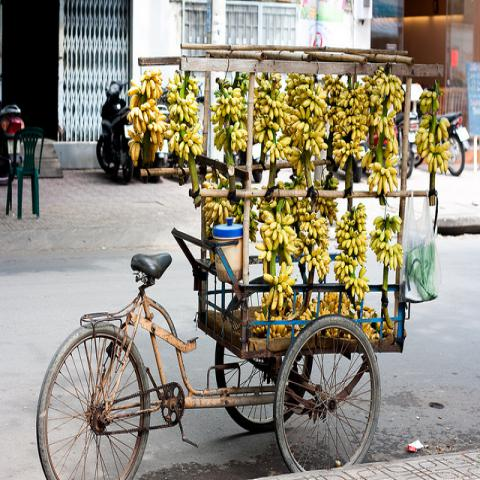motorcycle: (96, 81, 134, 181), (359, 113, 404, 157), (1, 104, 24, 177)
